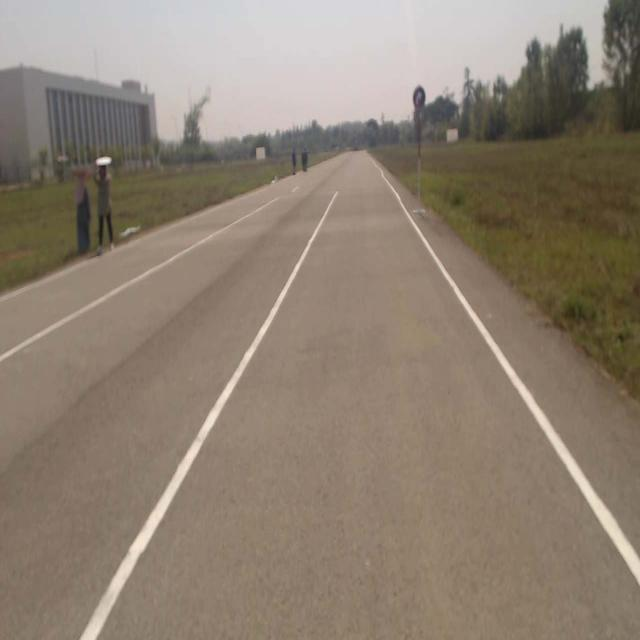sag: (414, 86, 424, 107)
